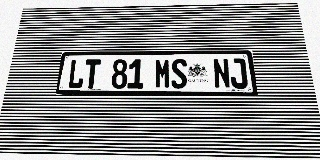1: (127, 59, 144, 89)
8: (111, 59, 128, 88)
J: (229, 58, 248, 89)
L: (67, 59, 85, 88)
M: (155, 59, 171, 89)
N: (212, 58, 231, 89)
S: (171, 59, 187, 89)
T: (83, 59, 101, 88)
